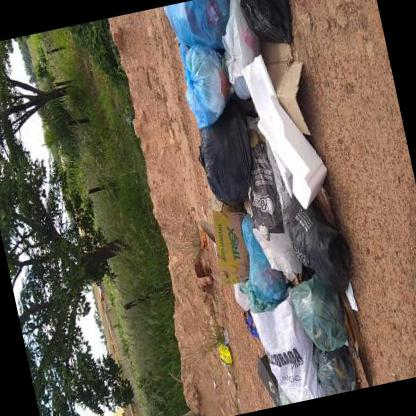lixo: (166, 0, 360, 411)
